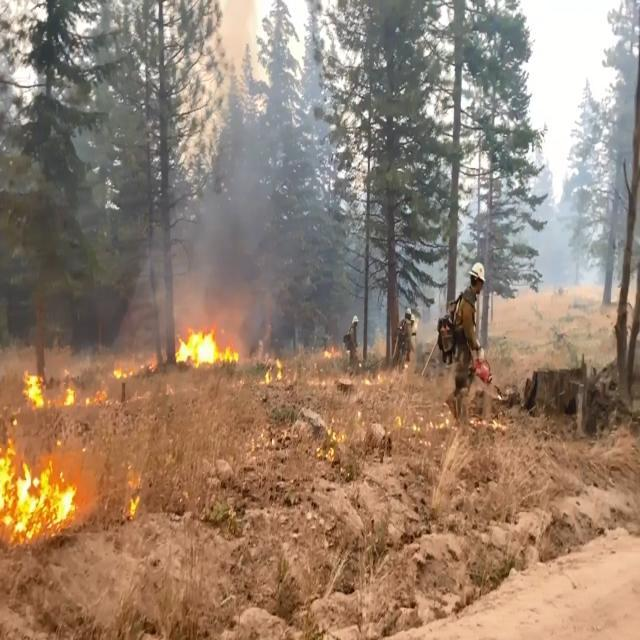Fire: (2, 316, 232, 564)
